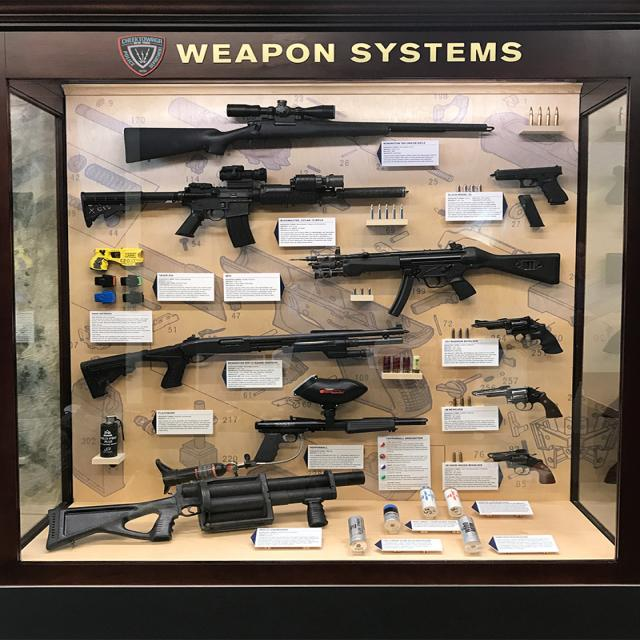HandGun: (471, 316, 563, 354), (490, 166, 569, 206), (472, 386, 563, 419), (487, 449, 554, 484)
Rifle: (81, 165, 409, 248), (125, 100, 493, 163)
SMG: (291, 247, 561, 317)
ShotGun: (79, 327, 410, 398)
